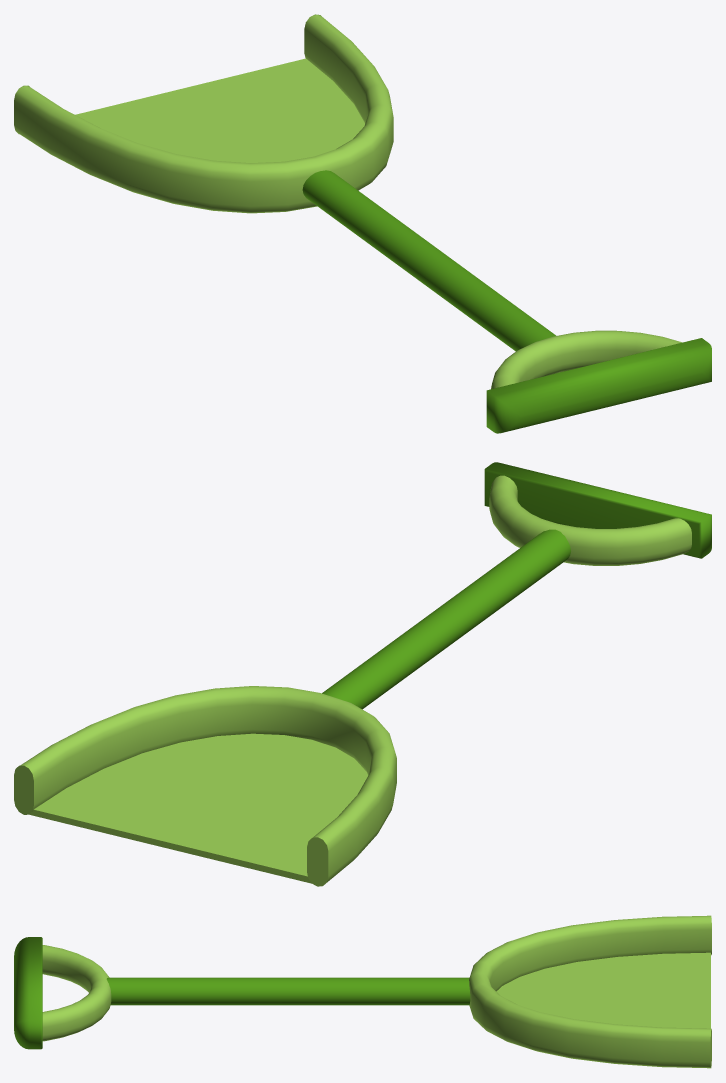
File: Beach_Toy_2.fbx
3 renders of one model, top to bottom at view 1: azimuth 30°, elevation 25°; view 2: azimuth 150°, elevation 25°; view 3: azimuth 270°, elevation 25°, orthographic. The views are drawn at different scales.
Visible parts, largest first — view 1: Beach_Toy_2; view 2: Beach_Toy_2; view 3: Beach_Toy_2.
Part boxes in pixels (left/top/right/bottom): Beach_Toy_2: left=14, top=14, right=711, bottom=433; Beach_Toy_2: left=14, top=462, right=711, bottom=886; Beach_Toy_2: left=14, top=915, right=711, bottom=1068.
Size of the model in its own units: 26.6 by 4 by 64.94.
